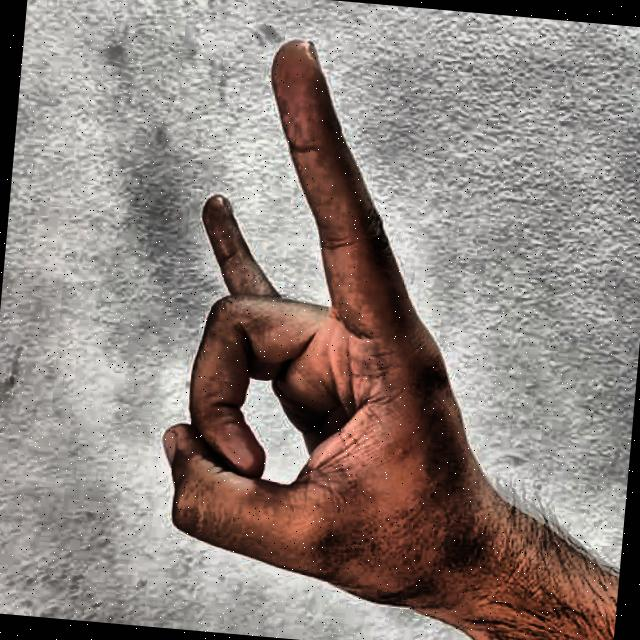Cha: (79, 0, 568, 640)
